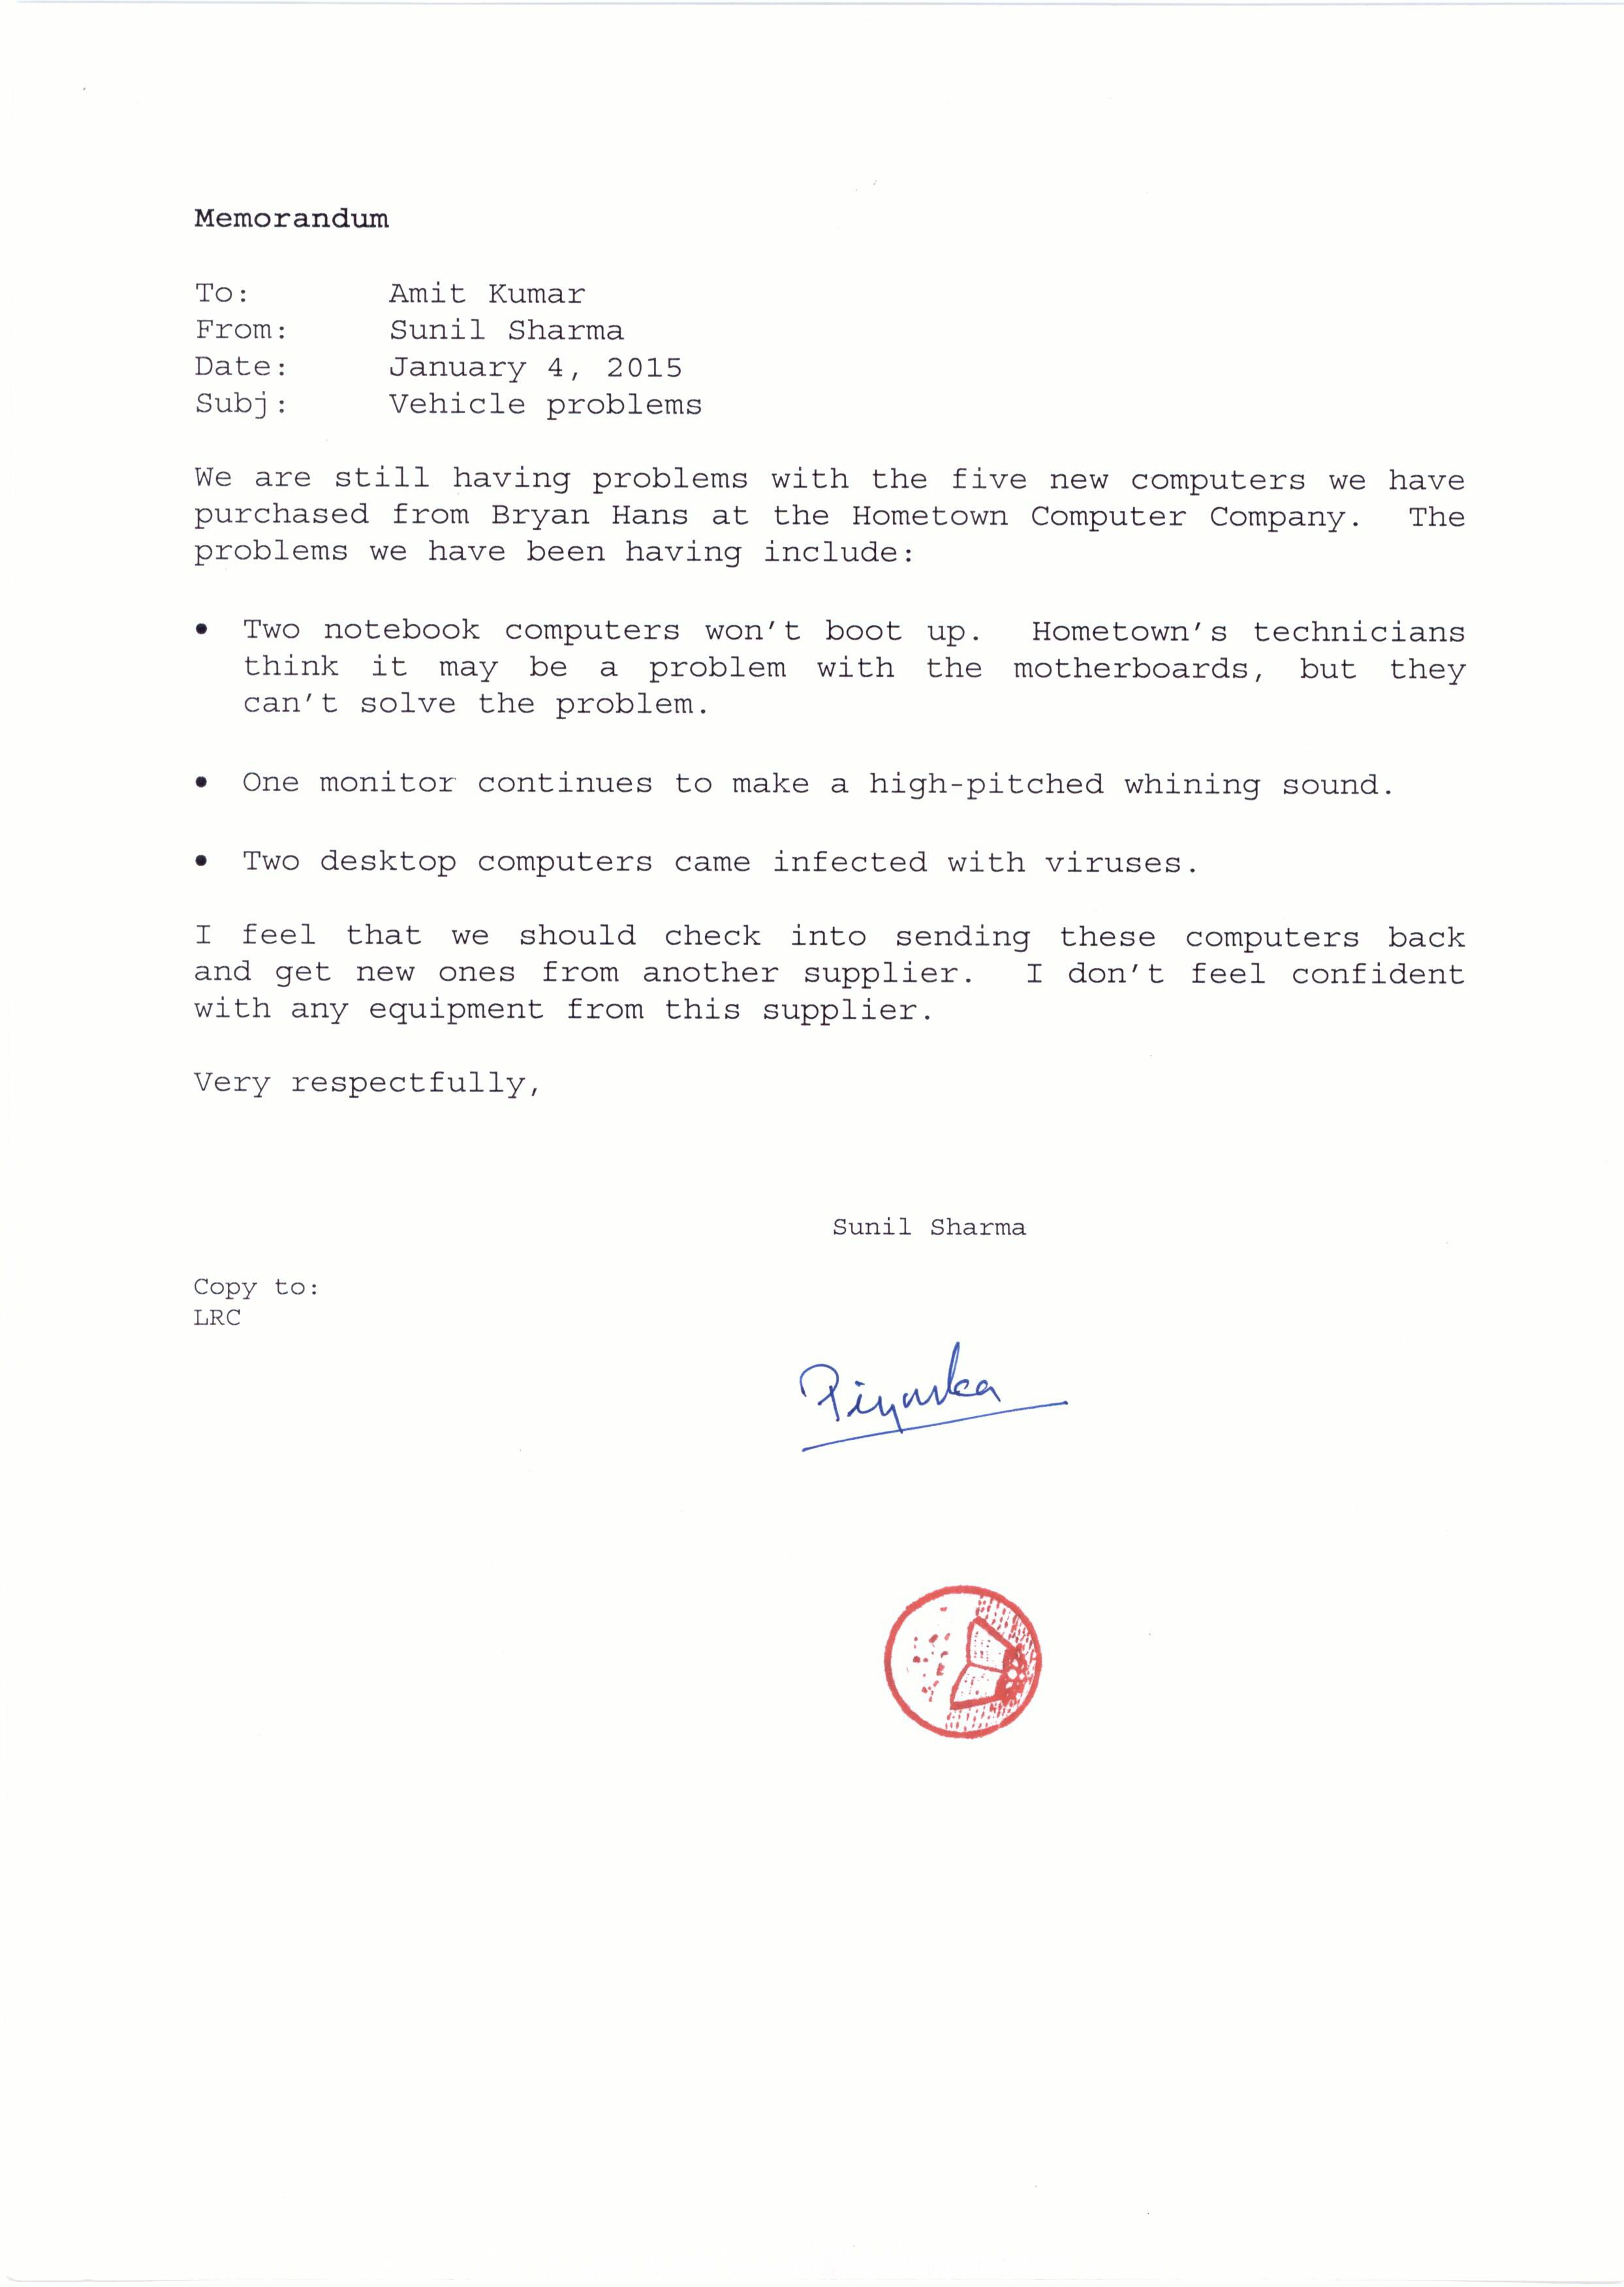Signature: (791, 1338, 1077, 1456)
